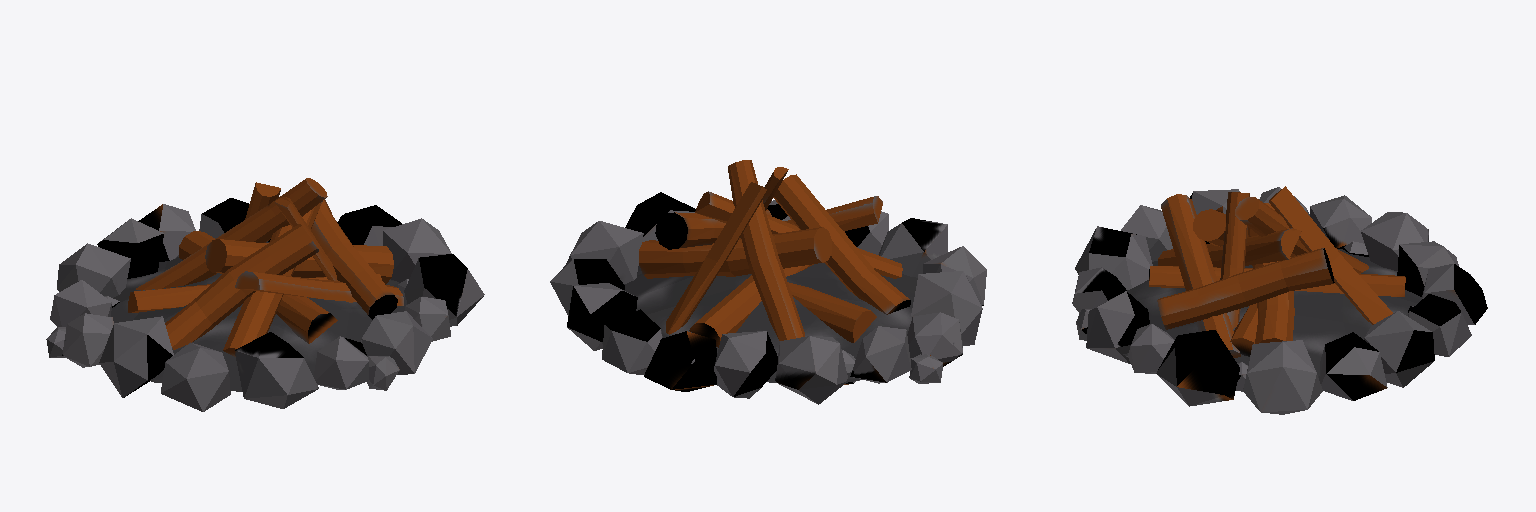
3 renders of one model, left to right at view 1: azimuth 30°, elevation 25°; view 2: azimuth 150°, elevation 25°; view 3: azimuth 270°, elevation 25°, orthographic.
Parts seen in each view (by area): view 1: Plane; view 2: Plane; view 3: Plane.
Part boxes in pixels (bbox=[...]): Plane: bbox=[46, 178, 484, 411]; Plane: bbox=[550, 160, 986, 404]; Plane: bbox=[1072, 186, 1487, 414].
Size of the model in its own units: 12.52 by 4.76 by 11.59.
Materials: 1 (1 with a texture image).